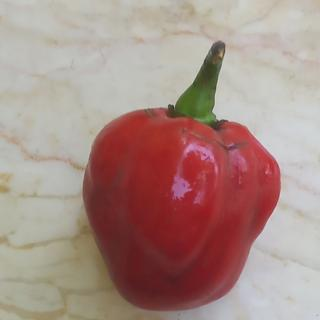Defect: (136, 101, 166, 125)
striped: (186, 126, 256, 158)
